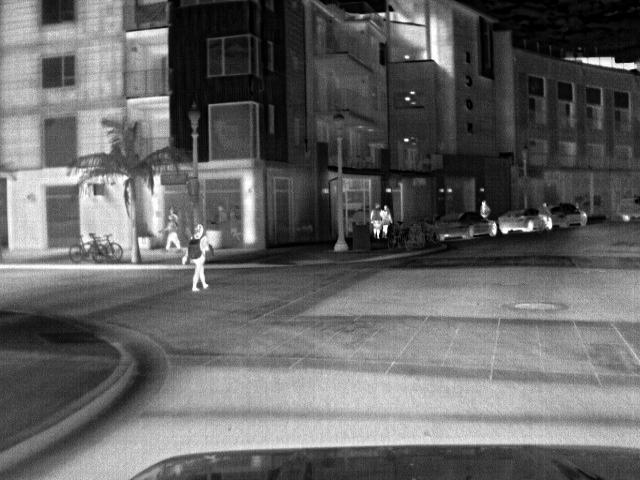car: (433, 208, 499, 242), (492, 207, 554, 234), (544, 202, 590, 227), (613, 194, 640, 223)
person: (182, 222, 213, 294), (161, 211, 188, 250), (367, 204, 383, 240), (381, 202, 394, 234), (478, 200, 492, 221)
